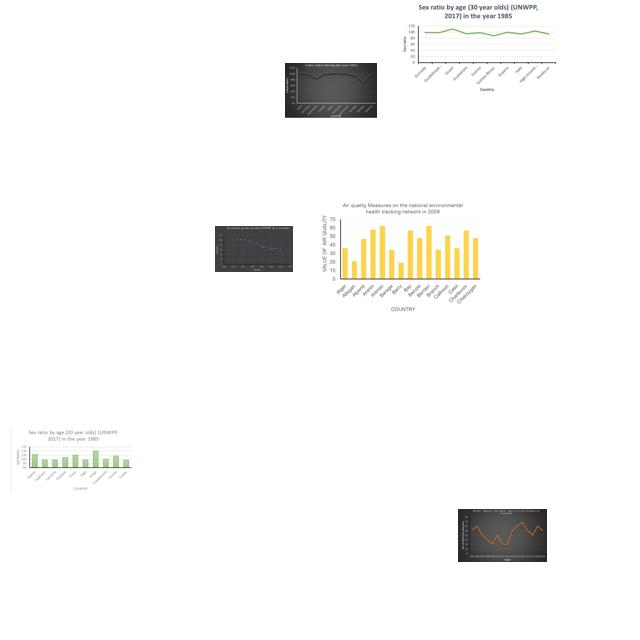Graph: (318, 199, 483, 314), (399, 2, 558, 95), (10, 428, 134, 493), (285, 63, 377, 118), (458, 509, 547, 562), (215, 226, 293, 272)
